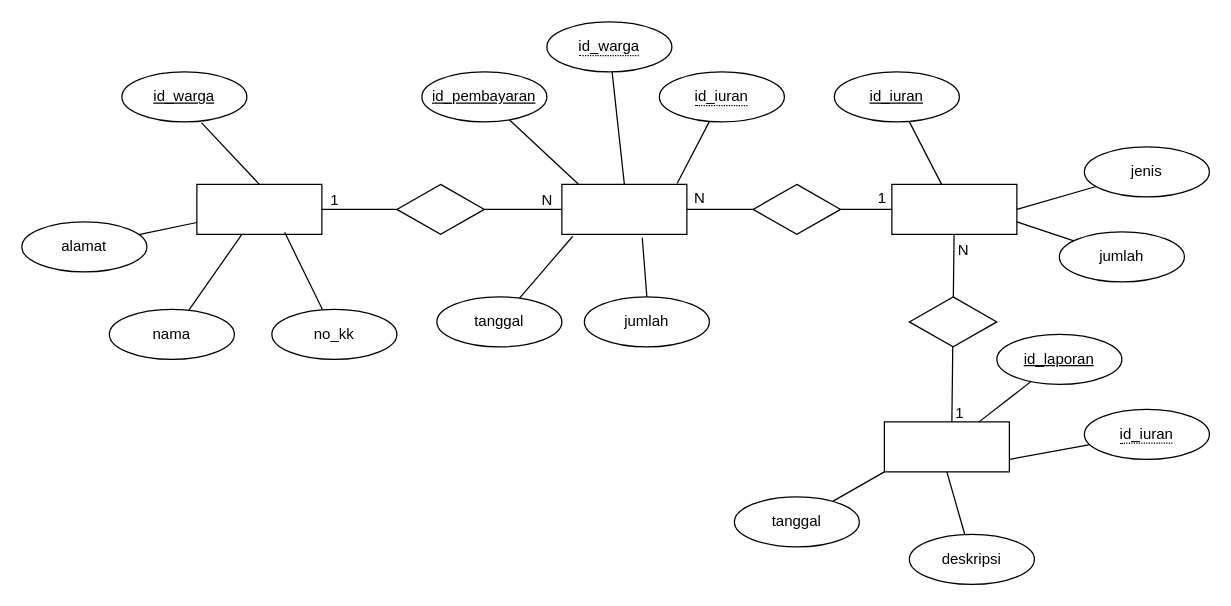
The diagram is 1231 pixels wide and 606 high, and some of its shapes have lost their labels. The shapes that lost their labels are listed below. From the top down, each one's box as (x1, y1, x2, y2) in pixels, then its label:
(196, 183, 322, 234): warga
(561, 183, 687, 234): t_pembayaran
(891, 183, 1017, 234): iuran
(883, 421, 1009, 472): l_transaksi
